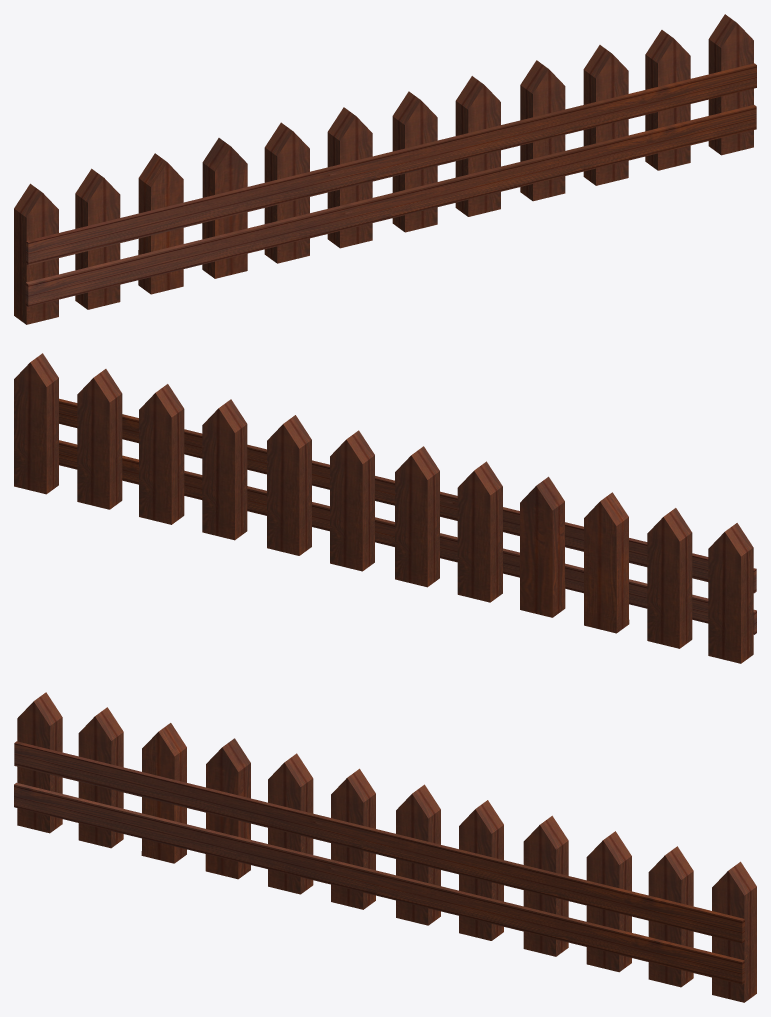
3 views of the same model, one above another, from view 1: azimuth 30°, elevation 25°; view 2: azimuth 150°, elevation 25°; view 3: azimuth 330°, elevation 25° (orthographic).
Visible parts, largest first — view 1: 立方體.006, 立方體.005, 立方體, 立方體.002, 立方體.007, 立方體.003, 立方體.013, 立方體.004, 立方體.008, 立方體.001, 立方體.010, 立方體.011 (+2 smaller); view 2: 立方體.001, 立方體, 立方體.011, 立方體.007, 立方體.010, 立方體.012, 立方體.003, 立方體.002, 立方體.008, 立方體.013, 立方體.004, 立方體.009 (+2 smaller); view 3: 立方體.006, 立方體.005, 立方體.013, 立方體, 立方體.011, 立方體.001, 立方體.007, 立方體.012, 立方體.010, 立方體.003, 立方體.008, 立方體.004 (+2 smaller).
Boxes of the visible parts, x1,y1,x2,y2 form: 立方體.006: (25, 105, 756, 306); 立方體.005: (26, 63, 756, 265); 立方體: (14, 183, 58, 324); 立方體.002: (138, 153, 183, 294); 立方體.007: (75, 168, 120, 309); 立方體.003: (202, 138, 247, 278); 立方體.013: (708, 14, 753, 155); 立方體.004: (327, 107, 372, 248); 立方體.008: (392, 91, 437, 232); 立方體.001: (264, 122, 309, 263); 立方體.010: (583, 45, 628, 185); 立方體.011: (520, 60, 565, 201); 立方體.001: (457, 461, 502, 602); 立方體: (708, 523, 753, 663); 立方體.011: (202, 399, 247, 540); 立方體.007: (647, 508, 692, 648); 立方體.010: (139, 384, 184, 524); 立方體.012: (77, 369, 122, 509); 立方體.003: (520, 476, 565, 617); 立方體.002: (584, 492, 629, 633); 立方體.008: (330, 430, 374, 571); 立方體.013: (14, 353, 58, 494); 立方體.004: (395, 446, 439, 587); 立方體.009: (267, 415, 311, 555); 立方體.006: (14, 782, 744, 984); 立方體.005: (14, 741, 744, 943); 立方體.013: (712, 861, 756, 1002); 立方體: (17, 692, 62, 833); 立方體.011: (523, 815, 568, 956); 立方體.001: (268, 753, 313, 894); 立方體.007: (78, 707, 123, 848); 立方體.012: (648, 846, 693, 987); 立方體.010: (586, 831, 631, 972); 立方體.003: (205, 738, 250, 879); 立方體.008: (396, 784, 440, 925); 立方體.004: (331, 768, 375, 909).
Size of the model in its own units: 336 by 12.06 by 56.44.
14 materials, 14 textured.
